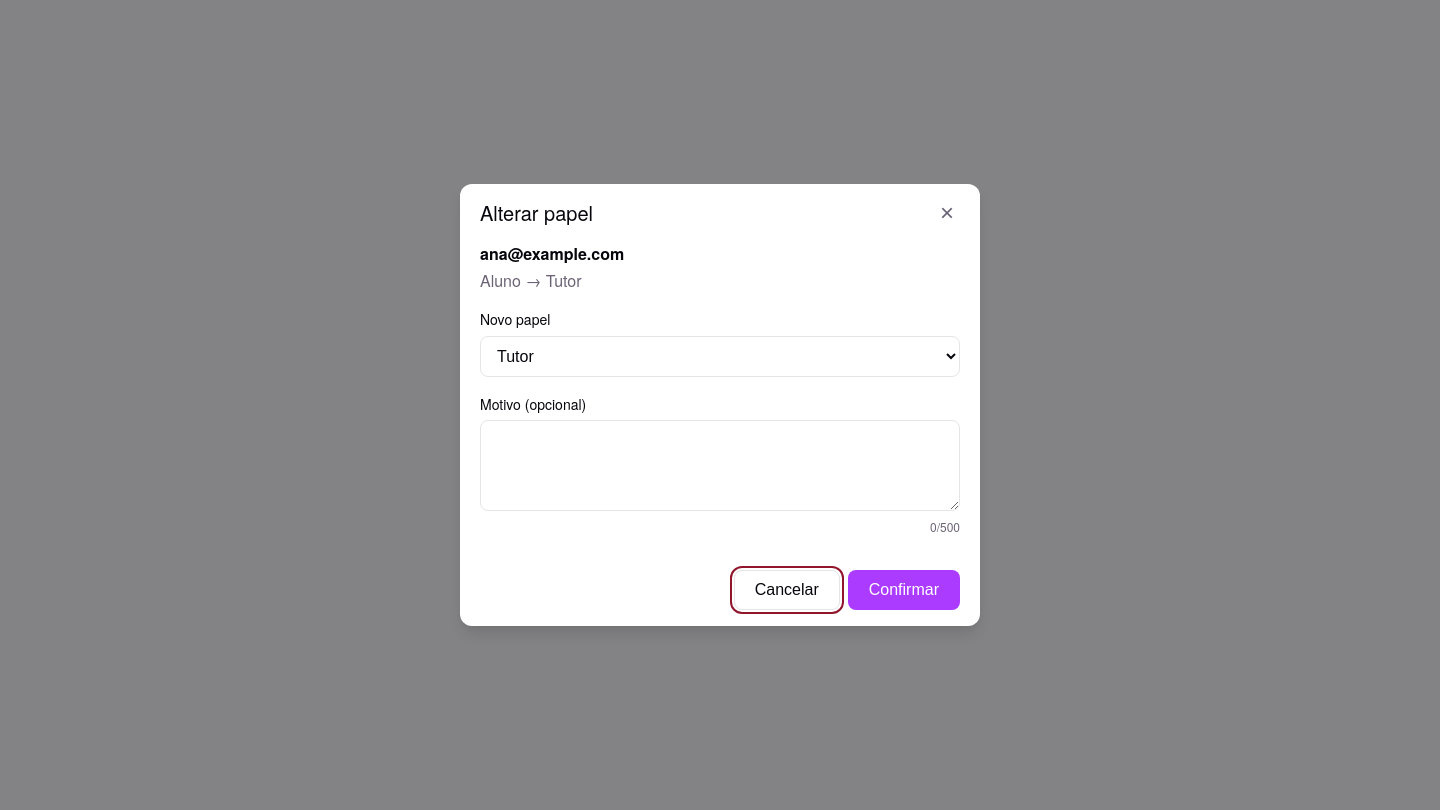
ChangeRoleDialog › maps unknown errors to the internal message
Step 1. Click the button "Confirmar" → coordinates (904, 590), box [848,570,960,610]
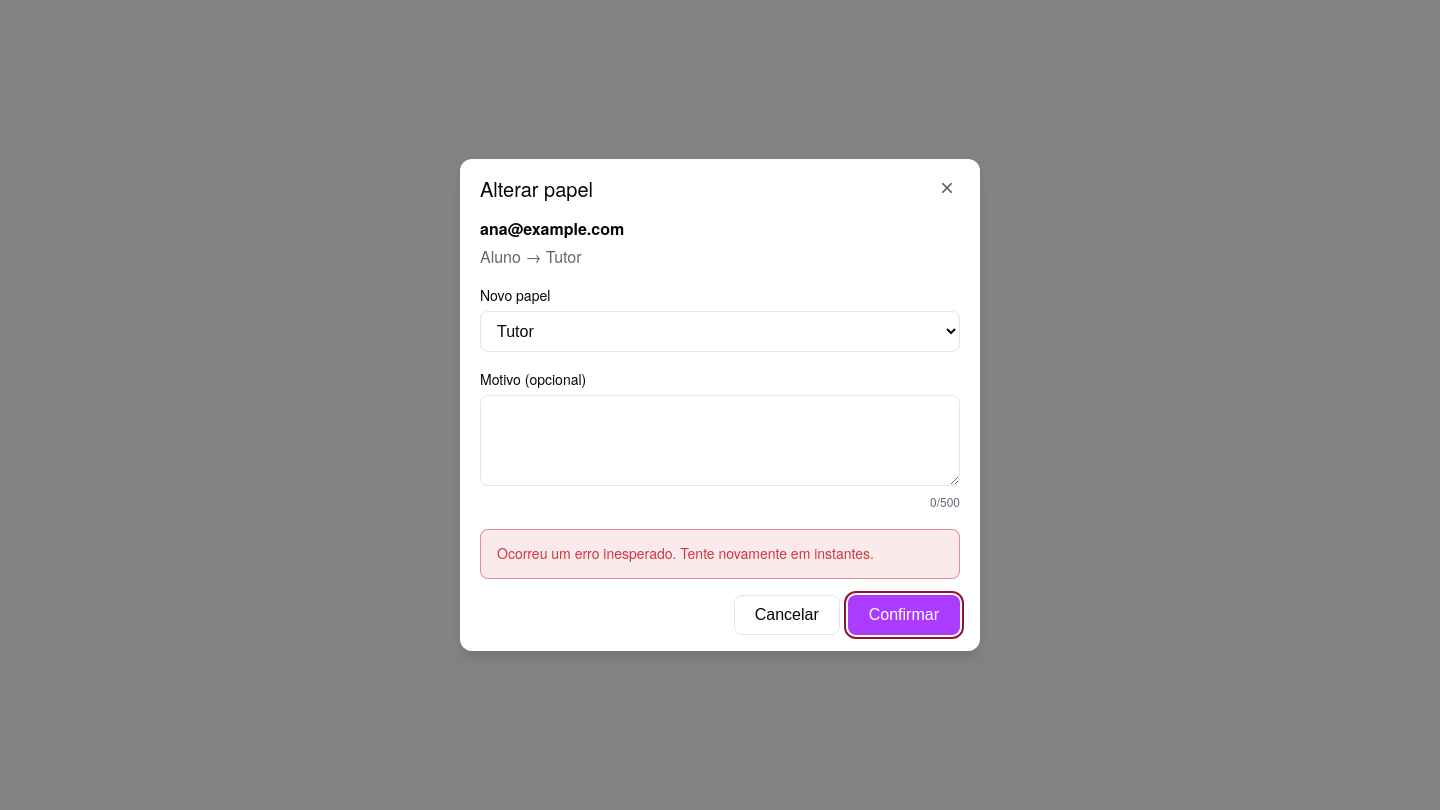
Check: the text "Ocorreu um erro inesperado. Tente novamente em instantes." is shown, box [497,543,874,563]
